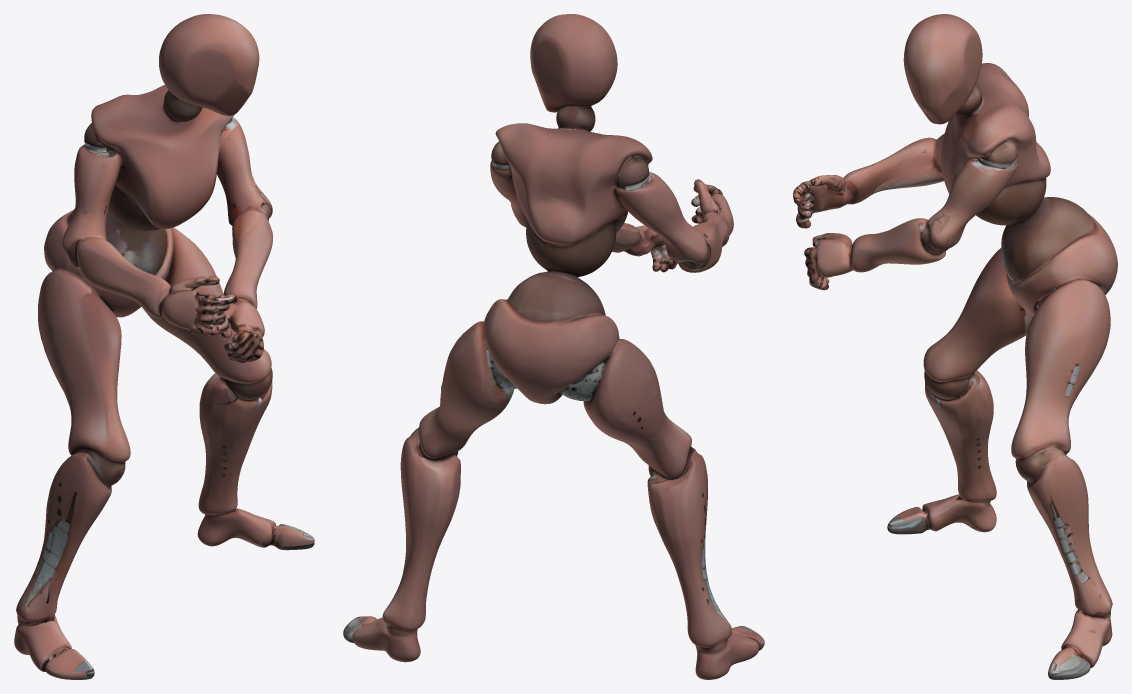
3 renders of one model, left to right at view 1: azimuth 30°, elevation 25°; view 2: azimuth 150°, elevation 25°; view 3: azimuth 270°, elevation 25°, orthographic. The views are drawn at different scales.
Visible parts, largest first — view 1: mvadapter_node_caf0930f-92ef-45d3-94d5-9a0d610ba6a0-e1_textu; view 2: mvadapter_node_caf0930f-92ef-45d3-94d5-9a0d610ba6a0-e1_textu; view 3: mvadapter_node_caf0930f-92ef-45d3-94d5-9a0d610ba6a0-e1_textu.
Boxes of the visible parts, box(x1,y1,x2,y2) form: mvadapter_node_caf0930f-92ef-45d3-94d5-9a0d610ba6a0-e1_textu: box(14, 14, 314, 679); mvadapter_node_caf0930f-92ef-45d3-94d5-9a0d610ba6a0-e1_textu: box(343, 14, 764, 679); mvadapter_node_caf0930f-92ef-45d3-94d5-9a0d610ba6a0-e1_textu: box(793, 14, 1117, 679).
Size of the model in its own units: 1.05 by 1.8 by 0.9012.
Materials: 1 (1 with a texture image).
